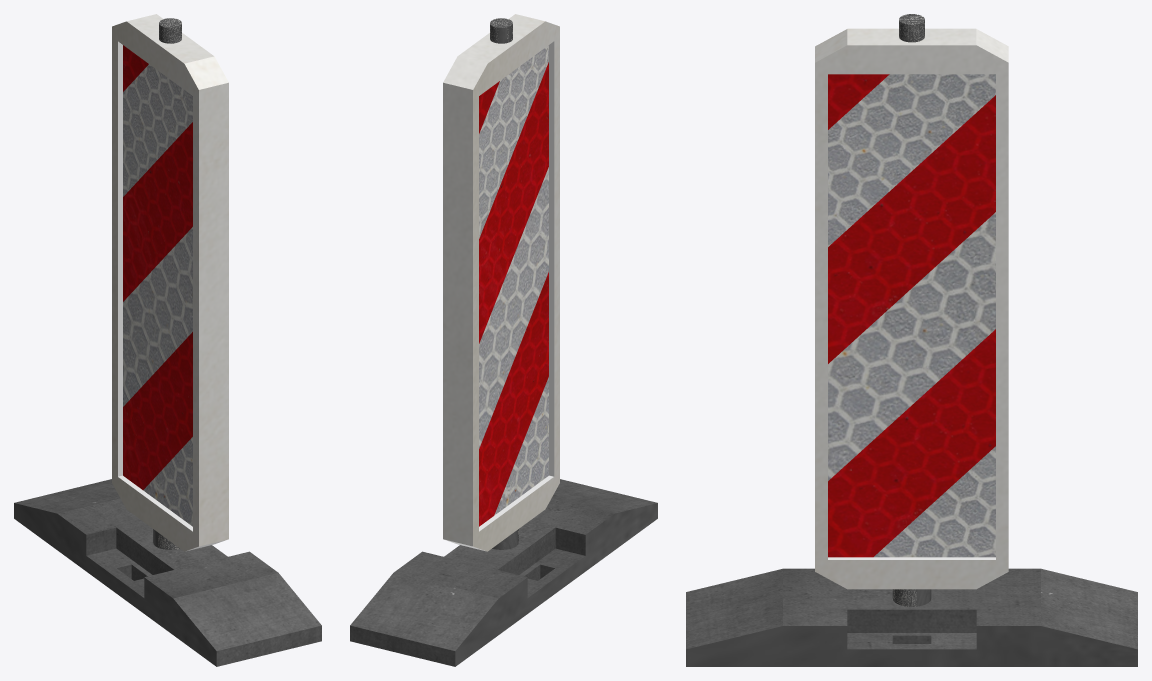
3 renders of one model, left to right at view 1: azimuth 30°, elevation 25°; view 2: azimuth 150°, elevation 25°; view 3: azimuth 270°, elevation 25°, orthographic. The views are drawn at different scales.
Parts seen in each view (by area): view 1: SketchUp (×5); view 2: SketchUp (×5); view 3: SketchUp (×4).
Part boxes in pixels (x1,y1,x2,y2): SketchUp (×5): (14, 14, 321, 666); SketchUp (×5): (350, 14, 657, 666); SketchUp (×4): (686, 14, 1137, 666).
Bounding box in the file's own units: 8.27 × 27.56 × 41.73.
Materials: 4 (3 with a texture image).
